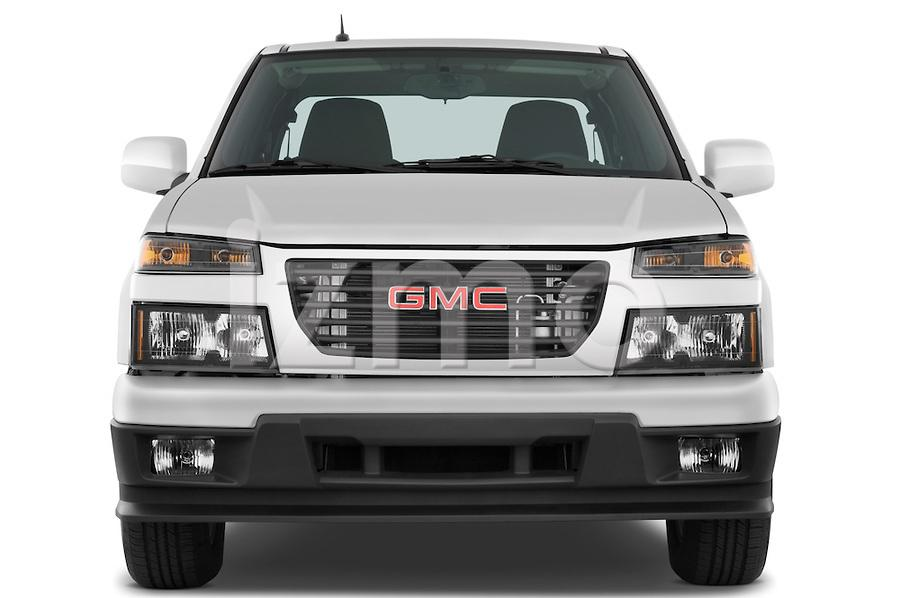GMC: (380, 274, 521, 318)
